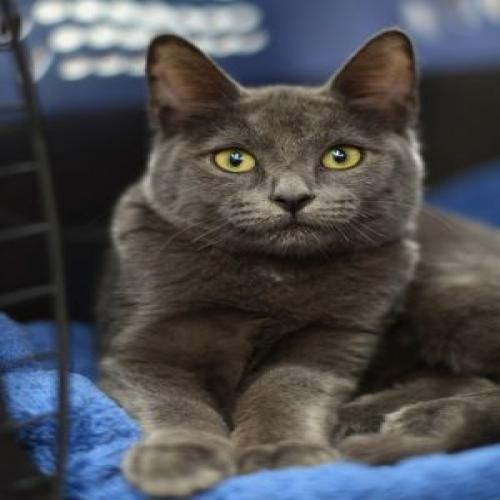rblue: (135, 24, 441, 276)
